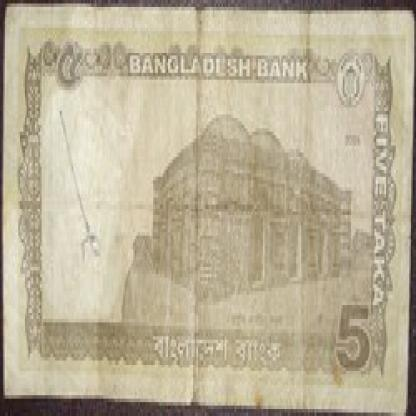Five Taka: (50, 35, 85, 104), (333, 280, 334, 301)
